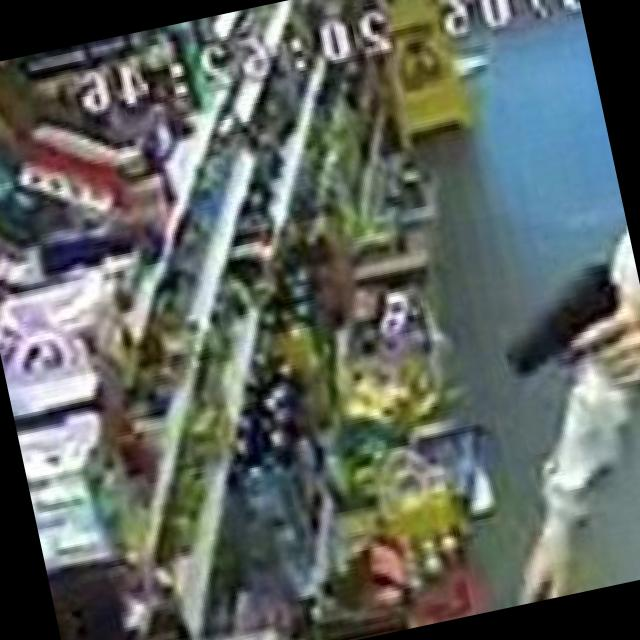Guns: (478, 241, 640, 426)
